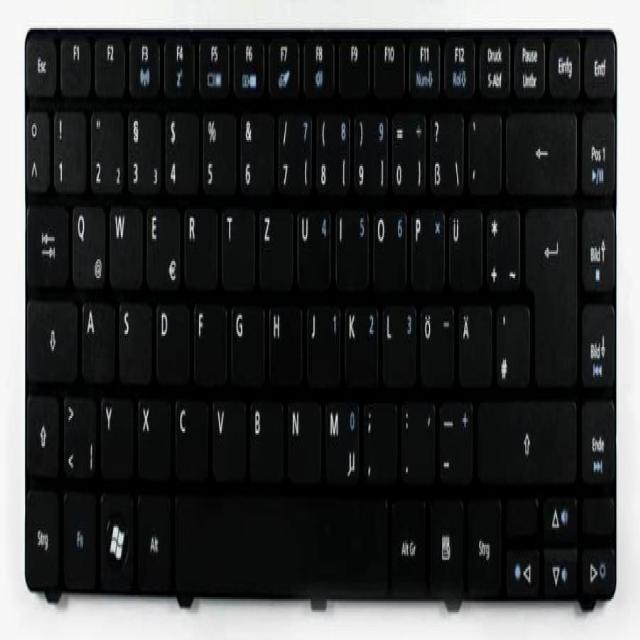0: (392, 111, 426, 199)
1: (52, 111, 87, 199)
2: (90, 113, 124, 199)
3: (127, 111, 162, 197)
4: (165, 111, 199, 197)
5: (201, 111, 237, 199)
6: (240, 113, 274, 201)
7: (278, 111, 313, 202)
8: (316, 111, 350, 202)
9: (354, 111, 388, 201)
a: (81, 301, 115, 384)
accent: (468, 111, 502, 201)
ae: (459, 305, 493, 393)
alt-left: (138, 494, 172, 595)
altgr-right: (391, 498, 427, 597)
b: (250, 399, 284, 485)
c: (174, 399, 209, 485)
caret: (25, 109, 50, 197)
comma: (363, 403, 396, 489)
d: (156, 305, 188, 386)
del: (506, 113, 578, 201)
e: (146, 202, 181, 296)
enter: (532, 208, 578, 395)
f: (194, 305, 226, 389)
g: (232, 307, 264, 389)
h: (269, 309, 302, 391)
hash: (496, 303, 529, 393)
i: (334, 208, 371, 292)
j: (306, 307, 340, 391)
k: (344, 307, 378, 391)
keyboard: (24, 23, 618, 605)
l: (381, 305, 417, 391)
less: (64, 397, 96, 485)
m: (325, 403, 360, 487)
minus: (439, 404, 473, 487)
n: (287, 401, 320, 487)
o: (373, 208, 408, 292)
oe: (421, 305, 455, 393)
p: (410, 208, 445, 296)
plus: (487, 210, 521, 294)
point: (401, 404, 435, 487)
q: (71, 206, 106, 296)
r: (184, 206, 219, 292)
s: (119, 302, 152, 388)
shift-left: (26, 395, 59, 481)
shift-lock: (25, 302, 77, 388)
shift-right: (477, 399, 578, 487)
space: (175, 494, 387, 599)
ss: (429, 111, 463, 199)
strg-left: (25, 489, 58, 590)
strg-right: (467, 500, 503, 599)
t: (221, 208, 255, 288)
tab: (25, 204, 68, 294)
u: (298, 208, 332, 292)
ue: (449, 206, 483, 297)
v: (213, 399, 247, 487)
w: (108, 202, 144, 292)
x: (137, 399, 171, 487)
y: (100, 397, 133, 485)
z: (258, 208, 293, 292)
